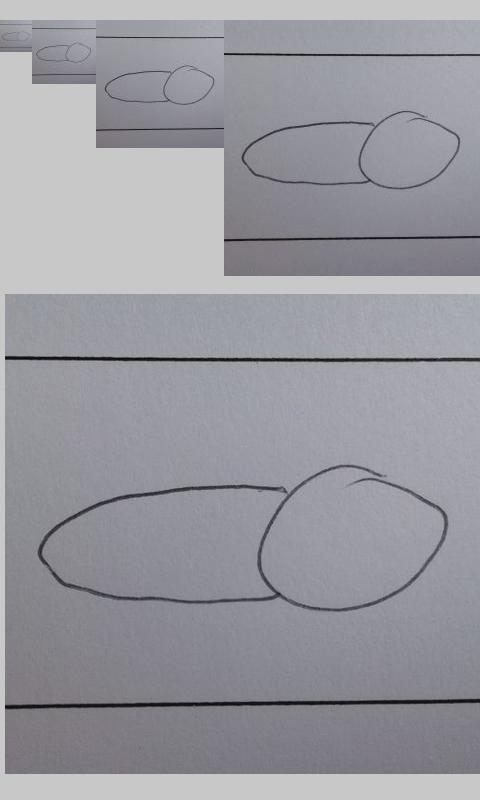switch: (37, 464, 449, 613), (240, 110, 462, 191), (104, 65, 215, 105), (35, 41, 92, 64), (1, 30, 31, 42)
